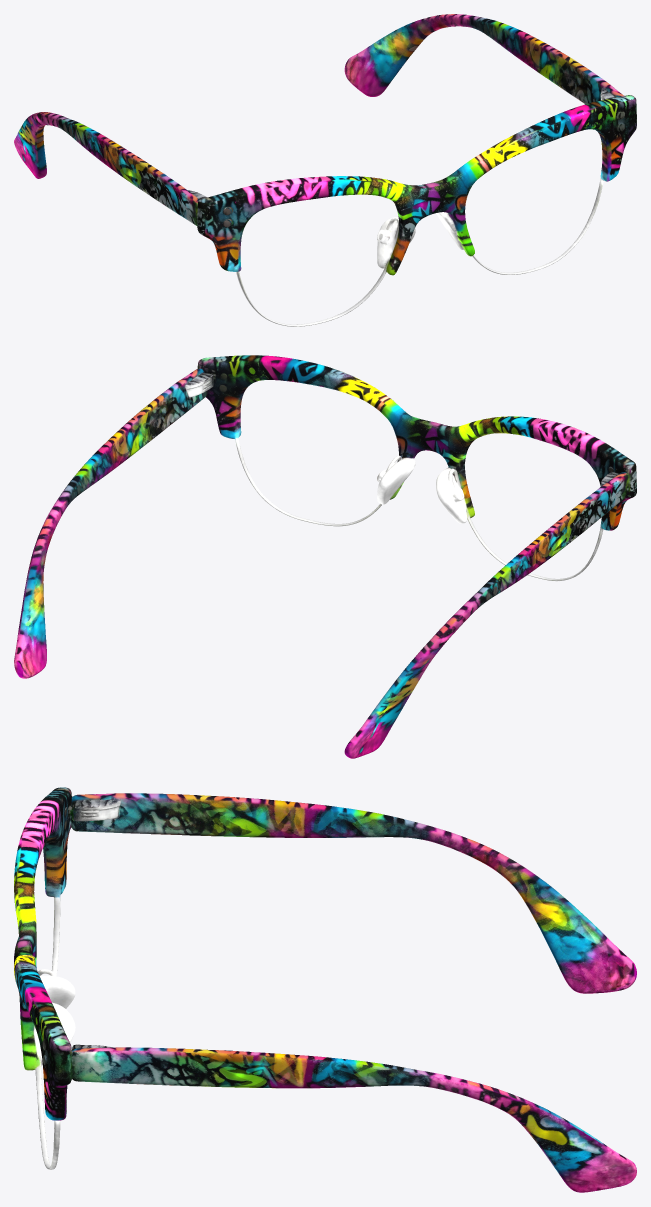
Rendered from City  Girl.glb.
3 views of the same model, one above another, from view 1: azimuth 30°, elevation 25°; view 2: azimuth 150°, elevation 25°; view 3: azimuth 270°, elevation 25° (orthographic). The views are drawn at different scales.
Size of the model in its own units: 1.88 by 0.6318 by 1.9.
Materials: 1 (1 with a texture image).
